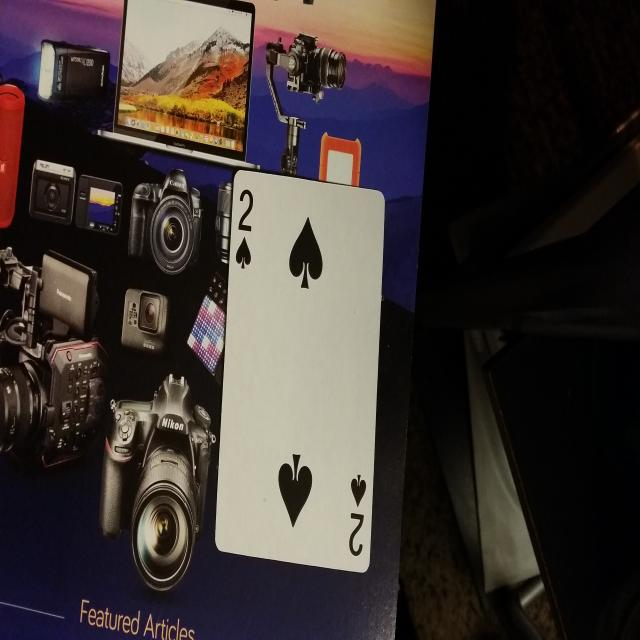2s: (230, 184, 257, 278), (345, 467, 368, 565)
